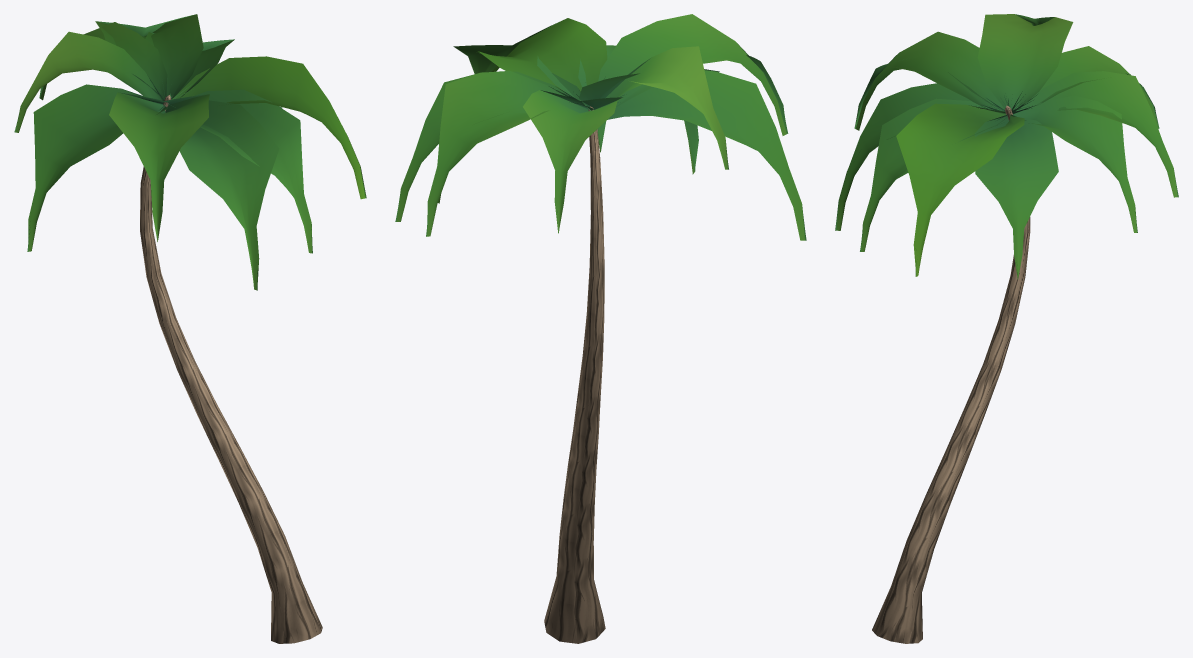
Rendered from palm_v2.glb.
3 renders of one model, left to right at view 1: azimuth 30°, elevation 25°; view 2: azimuth 150°, elevation 25°; view 3: azimuth 270°, elevation 25°, orthographic. The views are drawn at different scales.
Visible parts, largest first — view 1: palm_v2_leaves_LOD0, palm_v2_trunk_LOD0; view 2: palm_v2_leaves_LOD0, palm_v2_trunk_LOD0; view 3: palm_v2_leaves_LOD0, palm_v2_trunk_LOD0.
Part boxes in pixels (box(x1,y1,x2,y2)): palm_v2_leaves_LOD0: box(14, 14, 366, 290); palm_v2_trunk_LOD0: box(140, 95, 322, 643); palm_v2_leaves_LOD0: box(395, 14, 806, 240); palm_v2_trunk_LOD0: box(544, 106, 605, 643); palm_v2_leaves_LOD0: box(835, 14, 1178, 279); palm_v2_trunk_LOD0: box(872, 105, 1030, 643).
Size of what is drawn, in the model's own units: 5.88 by 10.28 by 5.79.
2 materials, 1 textured.
